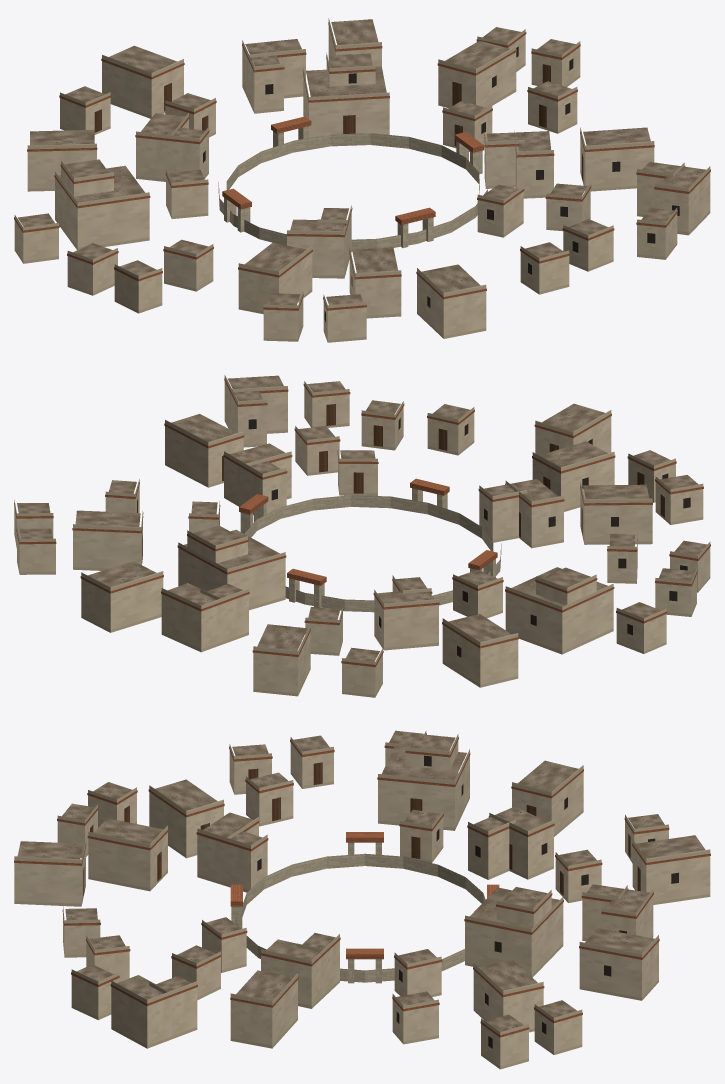
File: ae_sand_neighbourhood_stone_lod1.glb
3 views of the same model, one above another, from view 1: azimuth 30°, elevation 25°; view 2: azimuth 150°, elevation 25°; view 3: azimuth 270°, elevation 25° (orthographic). The views are drawn at different scales.
Parts seen in each view (by area): view 1: ae_sand_neighbourhood_stone_lod1; view 2: ae_sand_neighbourhood_stone_lod1; view 3: ae_sand_neighbourhood_stone_lod1.
Boxes of the visible parts, box(x1,y1,x2,y2) form: ae_sand_neighbourhood_stone_lod1: box(14, 18, 710, 342); ae_sand_neighbourhood_stone_lod1: box(14, 375, 710, 697); ae_sand_neighbourhood_stone_lod1: box(14, 730, 710, 1069).
Size of the model in its own units: 1.89 by 0.1882 by 1.82.
Materials: 1 (1 with a texture image).
